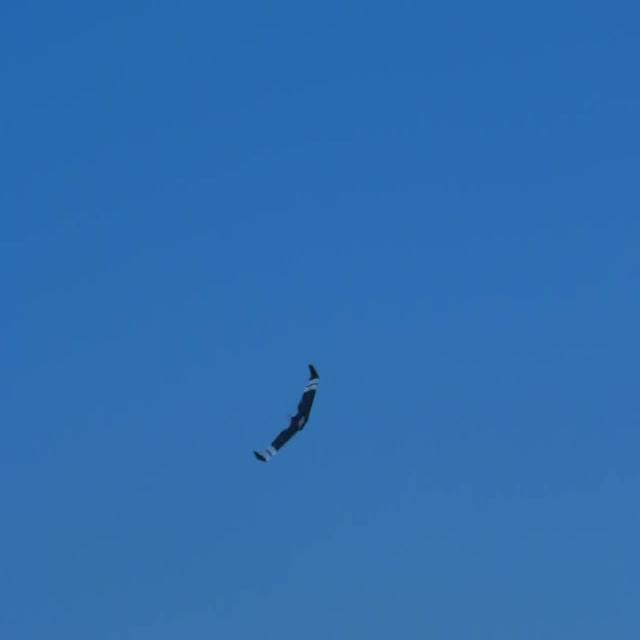iha: (285, 390, 289, 439)
